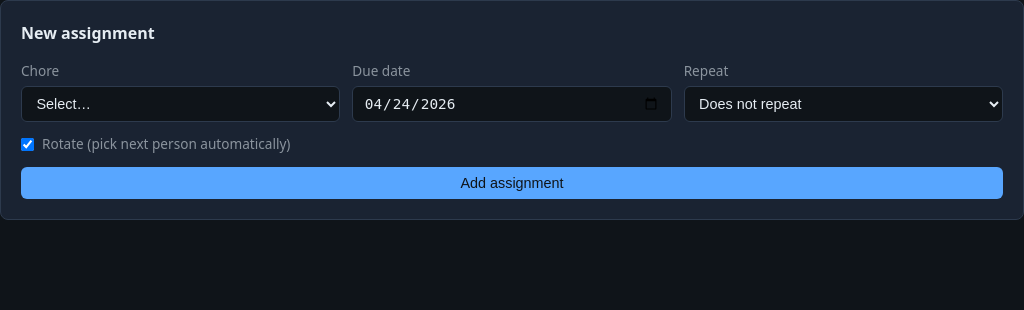
Test case: AddAssignmentForm — recurrence › switching from interval to weekday resets the value to 1
The image size is (1024, 310).
Select "Every N days" in the dropdown labelled "Repeat" at (843, 104), box left=684, top=86, right=1003, bottom=122
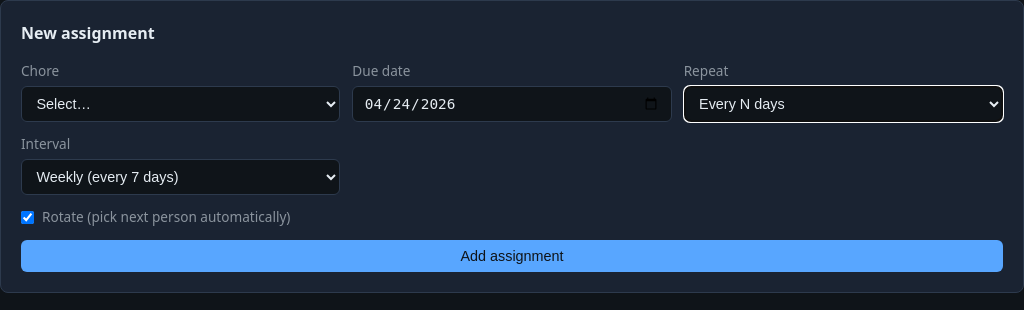
Select "Biweekly (every 14 days)" in the dropdown named "Interval in days" at (181, 177), box left=21, top=159, right=340, bottom=195
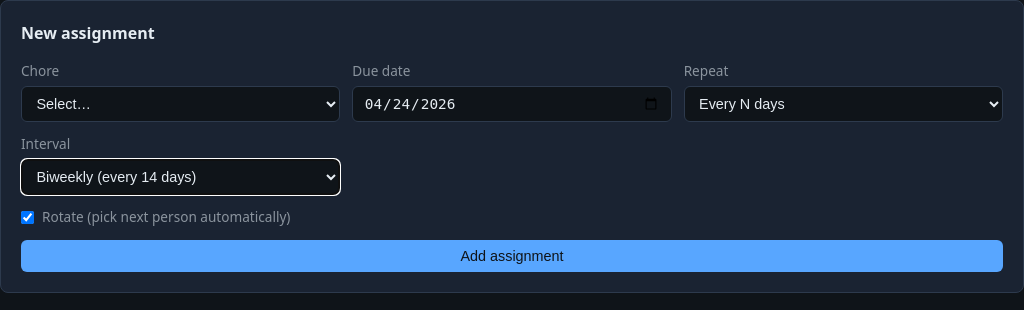
Select "Every weekday" in the dropdown labelled "Repeat" at (843, 104), box left=684, top=86, right=1003, bottom=122
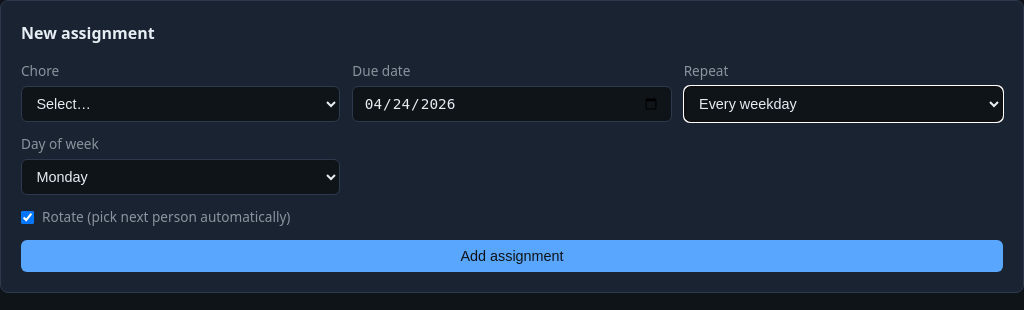
Check: the dropdown labelled "Day of week" shows "Monday", box left=21, top=159, right=340, bottom=195
